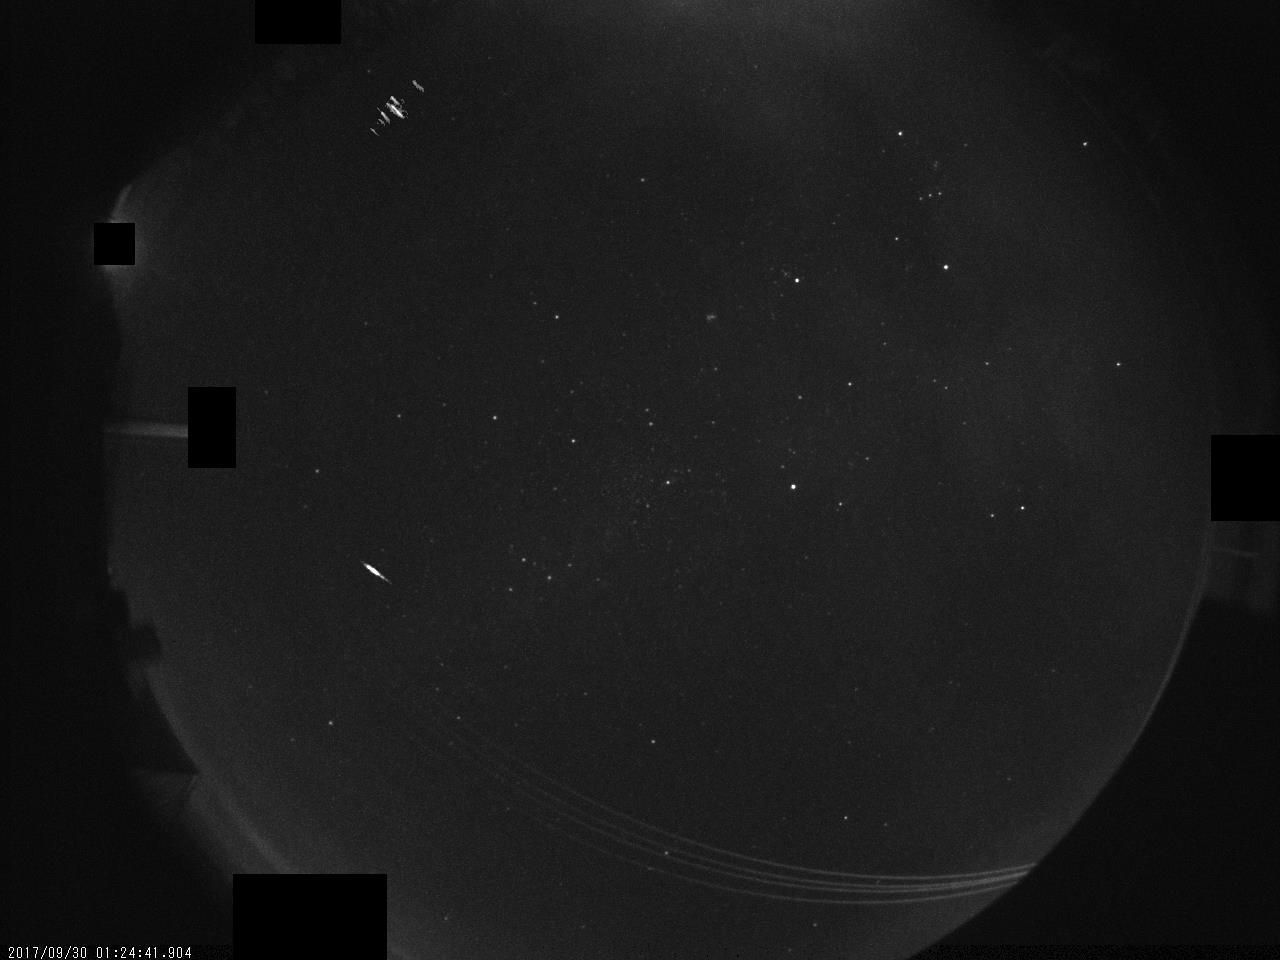TLE: (341, 54, 454, 164)
